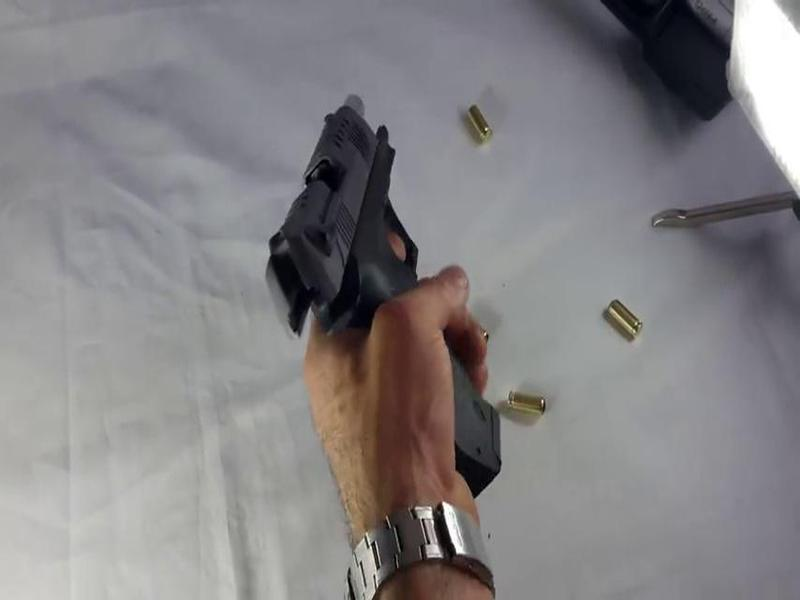Pistola: (229, 76, 554, 527)
